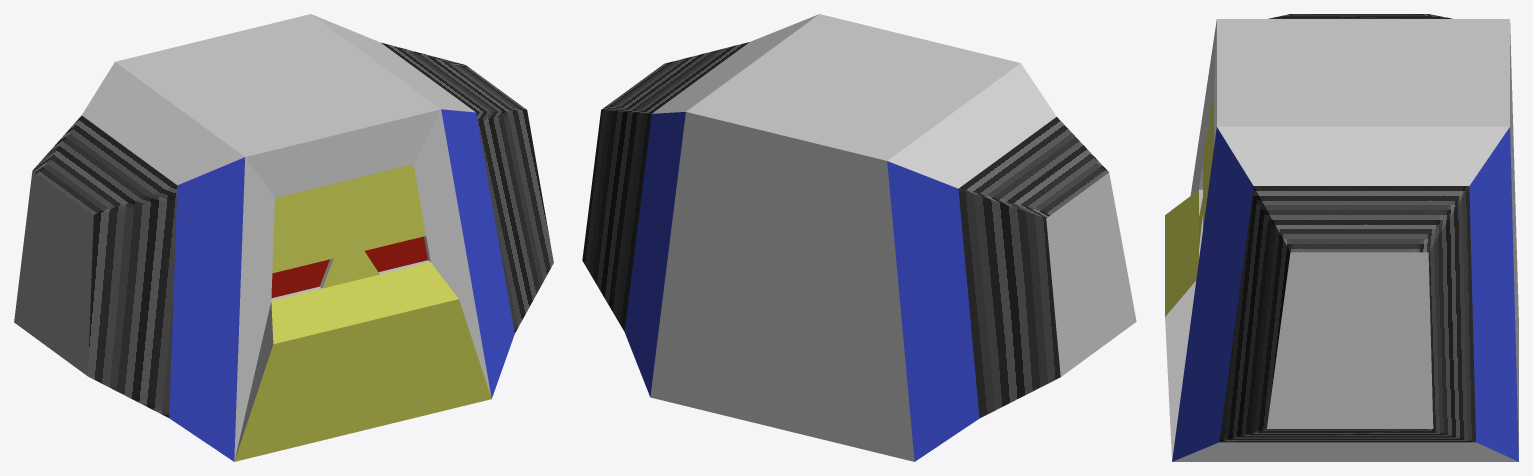
File: robohead.fbx
The picture shows the model from 3 angles, left to right: view 1: azimuth 30°, elevation 25°; view 2: azimuth 150°, elevation 25°; view 3: azimuth 270°, elevation 25°; orthographic projection. The views are drawn at different scales.
Visible parts, largest first — view 1: Box001; view 2: Box001; view 3: Box001.
Boxes of the visible parts, x1,y1,x2,y2 form: Box001: (14, 14, 553, 461); Box001: (582, 14, 1136, 461); Box001: (1165, 14, 1518, 461).
Size of the model in its own units: 14.51 by 8.41 by 8.47.
Materials: 5 (1 with a texture image).
